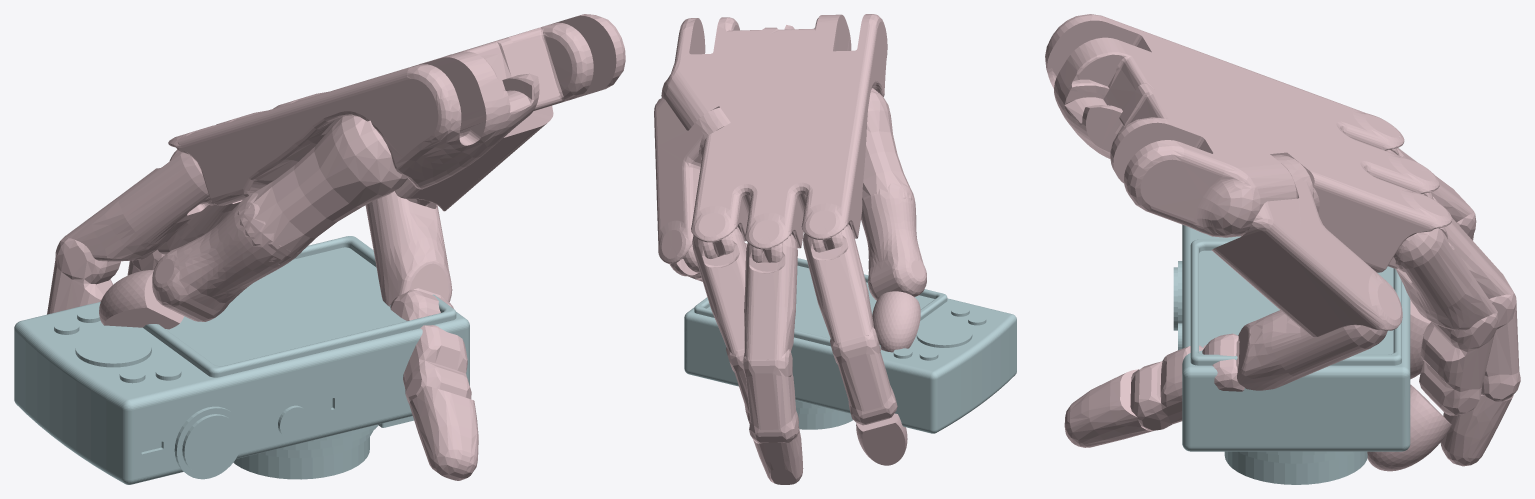
File: grasp_7.glb
The picture shows the model from 3 angles, left to right: view 1: azimuth 30°, elevation 25°; view 2: azimuth 150°, elevation 25°; view 3: azimuth 270°, elevation 25°; orthographic projection. The views are drawn at different scales.
Parts seen in each view (by area): view 1: world; view 2: world; view 3: world.
Part boxes in pixels (x1,y1,x2,y2): world: (14,14,625,484); world: (654,14,1016,484); world: (1045,14,1520,484).
Bounding box in the file's own units: 0.1568 × 0.1505 × 0.1349.
